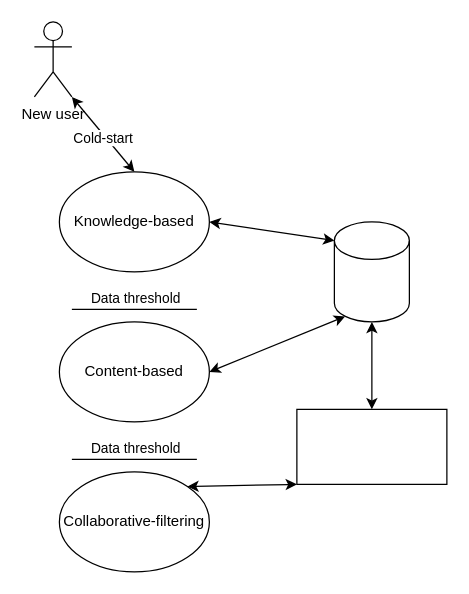
Some shapes in this 469 by 594 pixel diagram are drawn without their labels. The centre of each missing label's shape, as x and y in pixels:
DB: point 371,271
Engagement matrix: point 371,446
